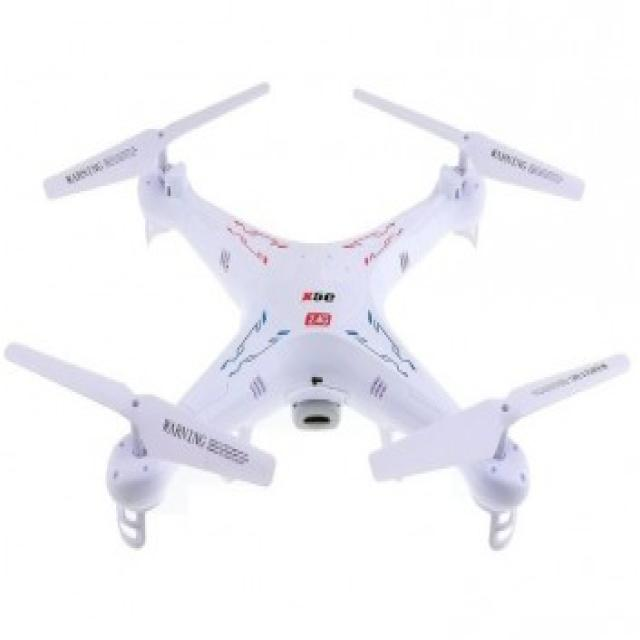drone: (26, 94, 636, 553)
